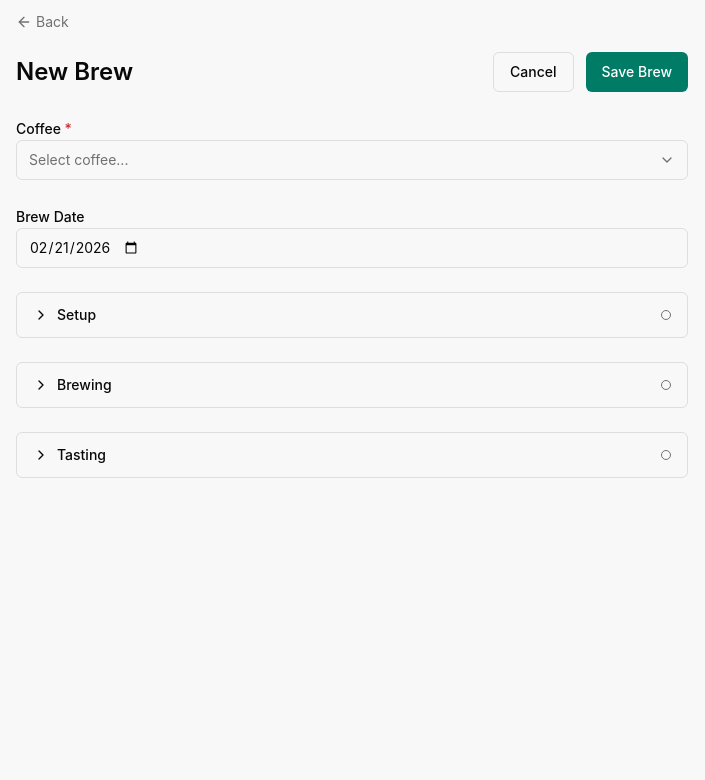
Test: BrewFormPage › computes water weight when coffee weight and ratio entered
Expected: the heading "New Brew" is shown, [16,56,133,88]
Click the button "Setup": [77, 314] box [17,293,687,337]
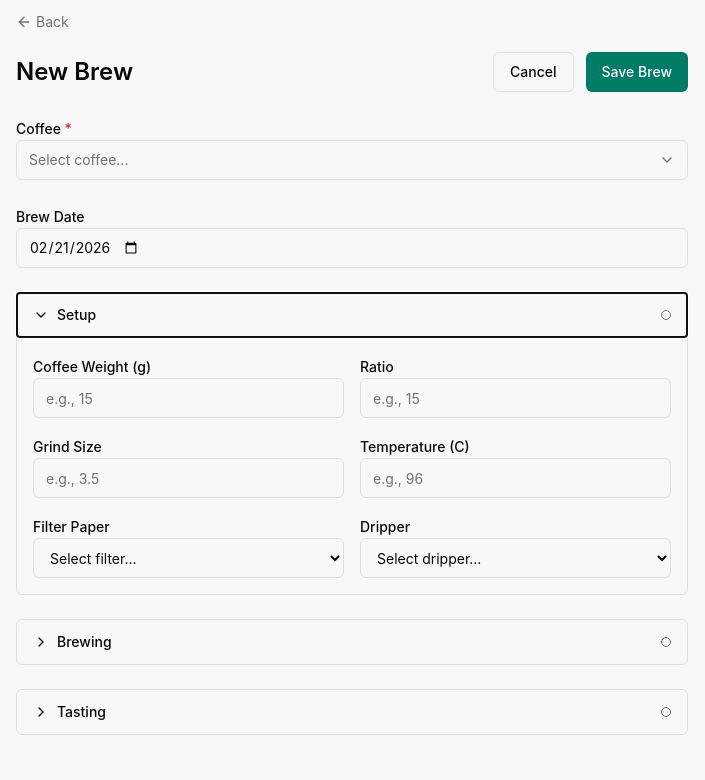
In the number field labelled "Coffee Weight (g)": [188, 398] box [33,378,344,418], type "15"
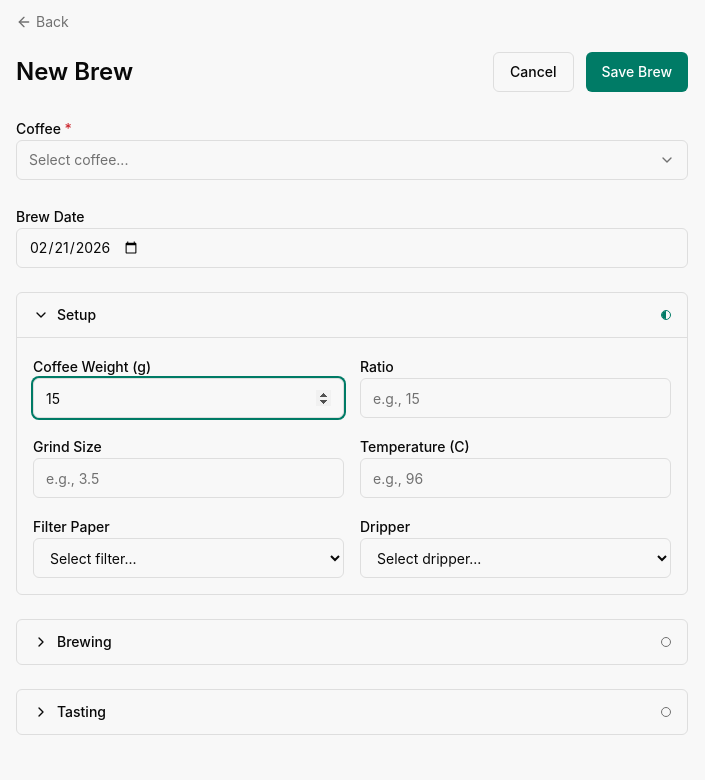
In the number field labelled "Ratio": [516, 398] box [360,378,671,418], type "15"
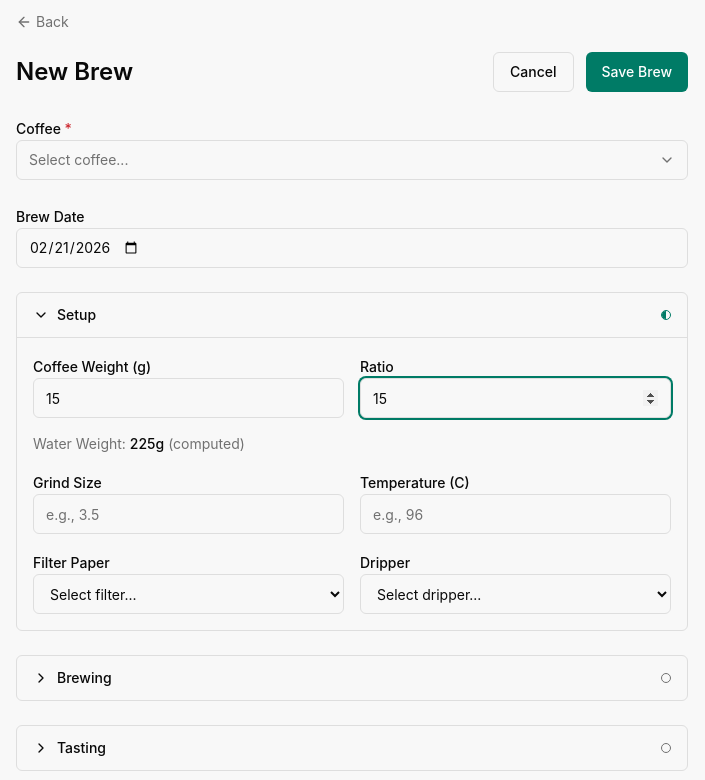
Expected: the text "Water Weight: 225g (computed)" is shown, [33,435,245,452]
Expected: the text "225g" is shown, [130,435,164,452]
